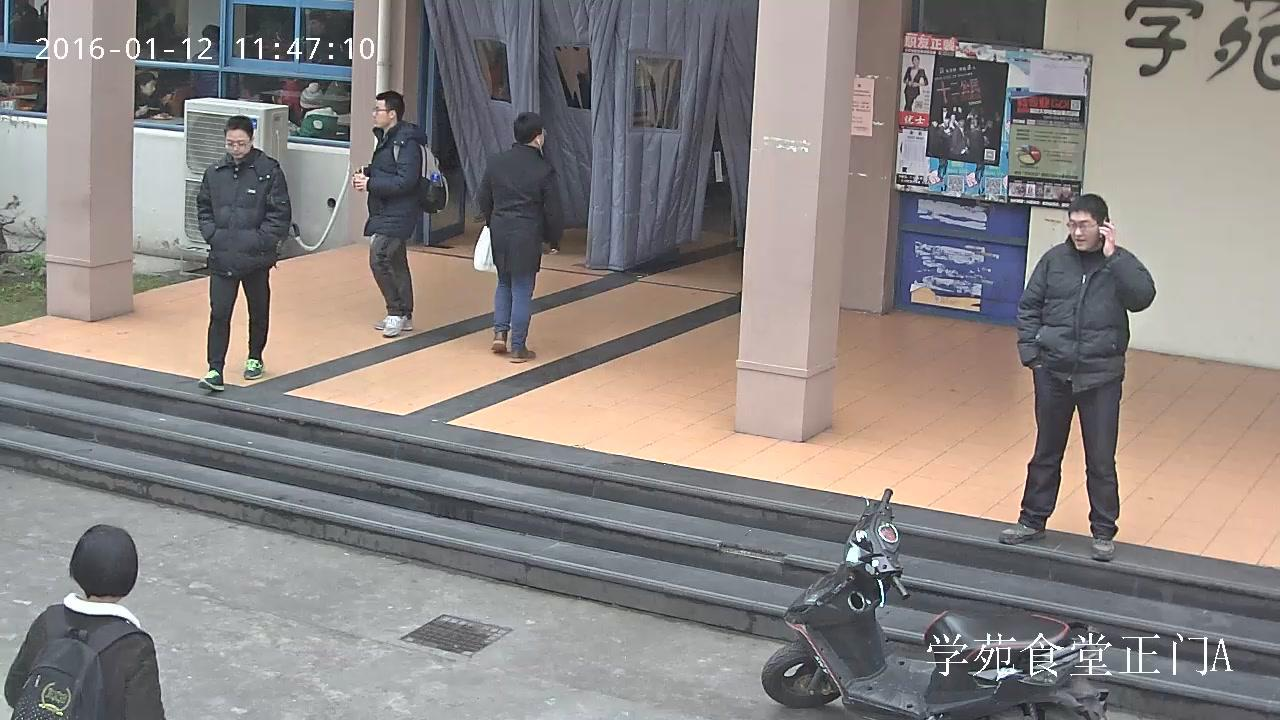person: (998, 192, 1156, 563), (0, 524, 166, 720), (196, 115, 291, 393), (351, 90, 448, 337), (472, 112, 561, 363), (189, 24, 240, 98), (291, 81, 346, 139), (134, 69, 166, 118), (903, 54, 928, 112)
